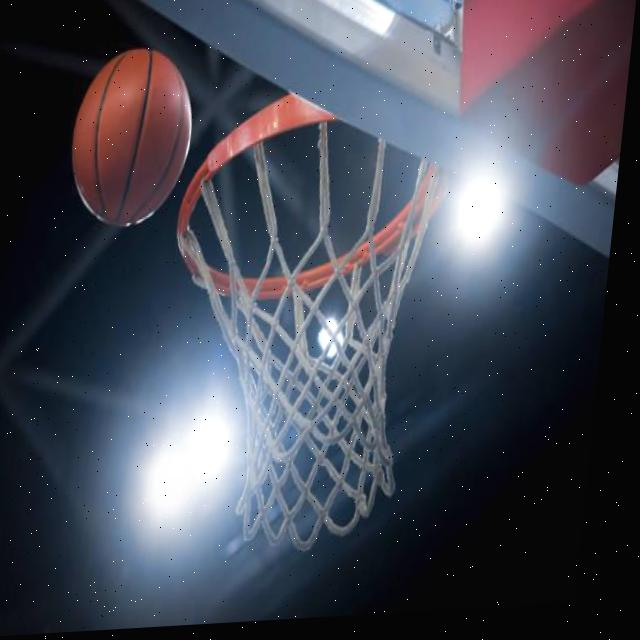basketball: (65, 46, 201, 229)
hoop: (144, 83, 457, 562)
